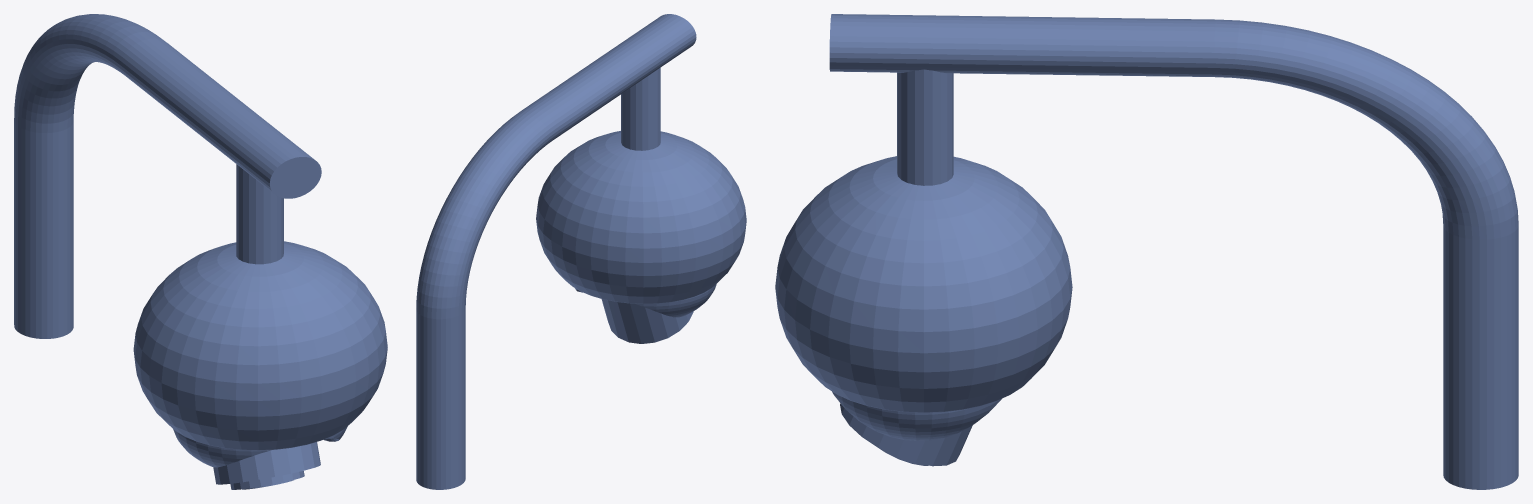
File: Planned Camera - outdoor dome purple.glb
3 renders of one model, left to right at view 1: azimuth 30°, elevation 25°; view 2: azimuth 150°, elevation 25°; view 3: azimuth 270°, elevation 25°, orthographic. The views are drawn at different scales.
Visible parts, largest first — view 1: Mesh_Mesh_head_geo.001_lambert2SG.001; view 2: Mesh_Mesh_head_geo.001_lambert2SG.001; view 3: Mesh_Mesh_head_geo.001_lambert2SG.001.
Part boxes in pixels (box(x1,y1,x2,y2)): Mesh_Mesh_head_geo.001_lambert2SG.001: box(14, 14, 387, 489); Mesh_Mesh_head_geo.001_lambert2SG.001: box(416, 14, 746, 489); Mesh_Mesh_head_geo.001_lambert2SG.001: box(775, 14, 1518, 489).
Size of the model in its own units: 15.22 by 24.01 by 36.18.
